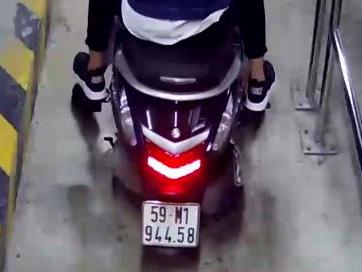num_plate: (141, 201, 199, 246)
